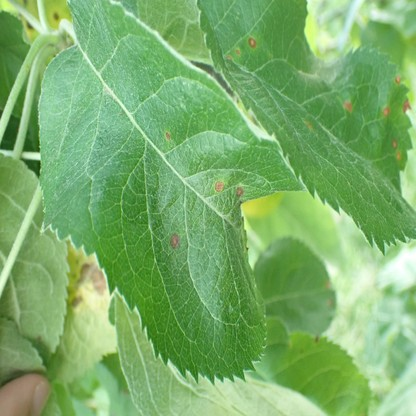frogeye_leaf_spot: (392, 139, 400, 162), (171, 235, 179, 249), (403, 100, 411, 114), (235, 187, 244, 198), (344, 101, 353, 112), (248, 38, 257, 48), (215, 182, 223, 192), (382, 107, 389, 116), (226, 54, 232, 61), (165, 132, 170, 139), (395, 77, 400, 83), (235, 48, 239, 55)
